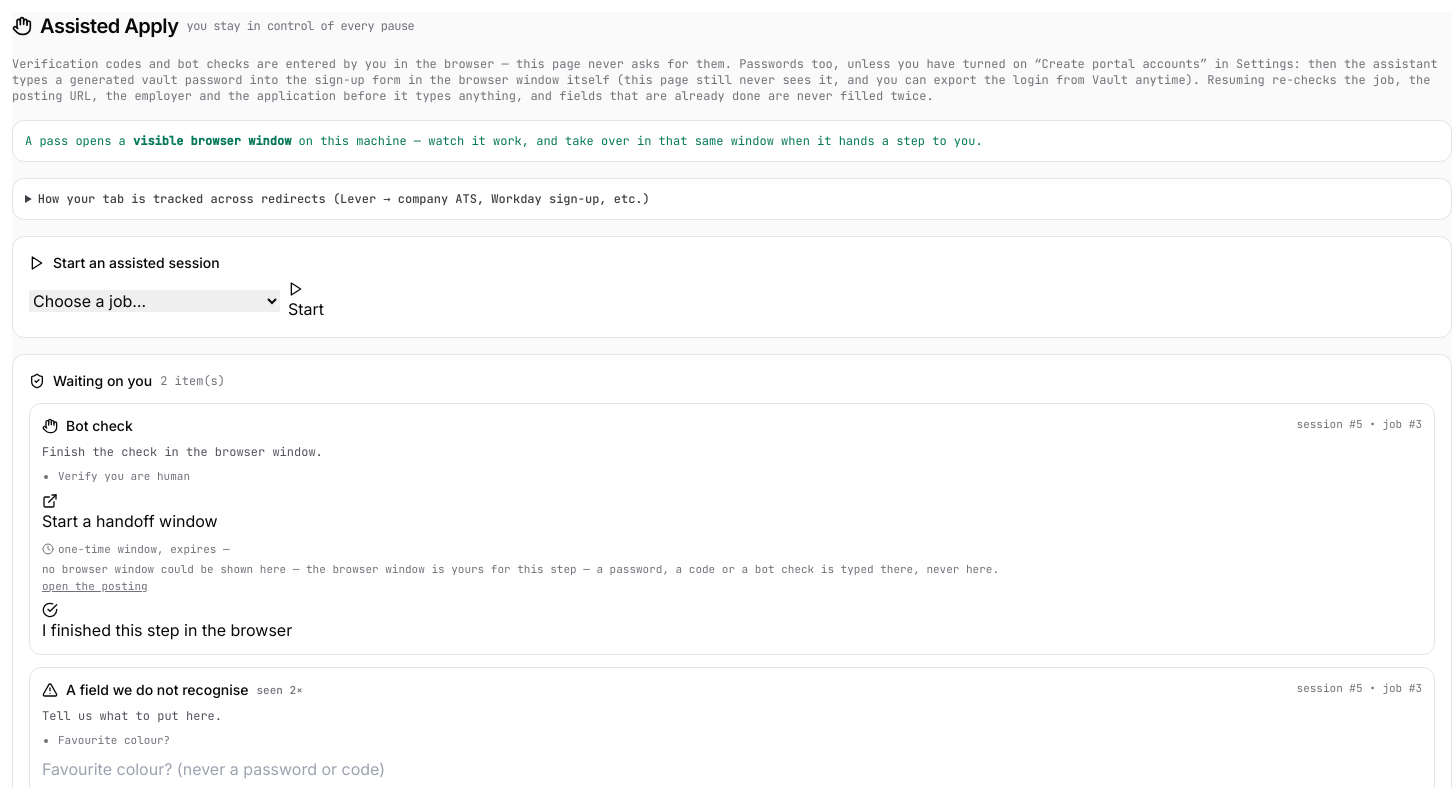
Test case: Assisted Apply page › opens a real window for a handoff and says so — never a silent no-op
The image size is (1452, 787).
Expected: the element with test id "action-captcha" is shown, [29, 403, 1435, 655]
Click the button "Start a handoff window". click: (130, 512)
box: [42, 492, 218, 532]
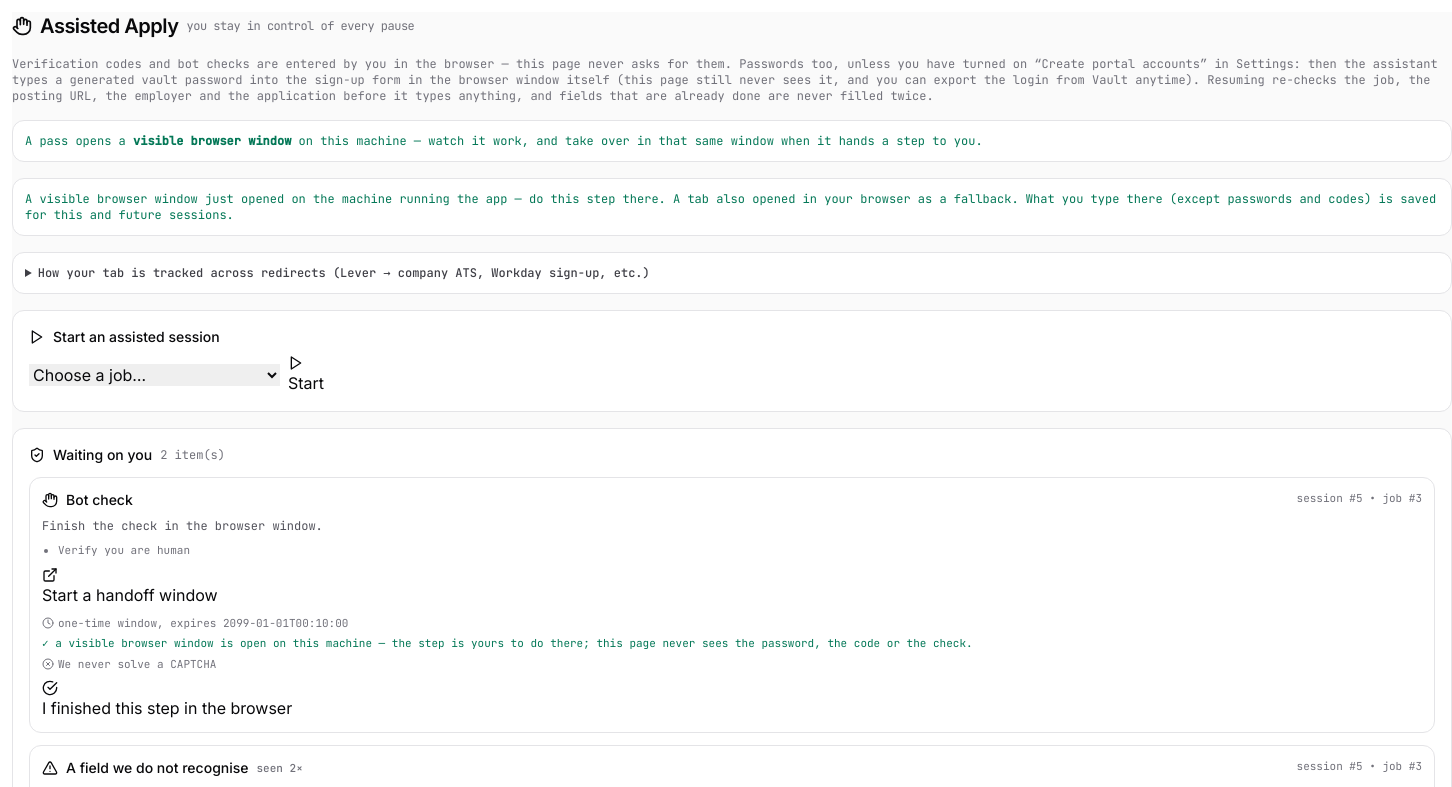
Expected: the text with test id "handoff-window-open" is shown, [42, 636, 973, 650]
Expected: the text "saved for this and future sessions" is shown, [25, 191, 1436, 223]
